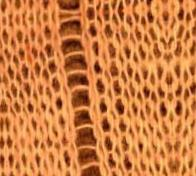slub: (55, 0, 108, 176)
